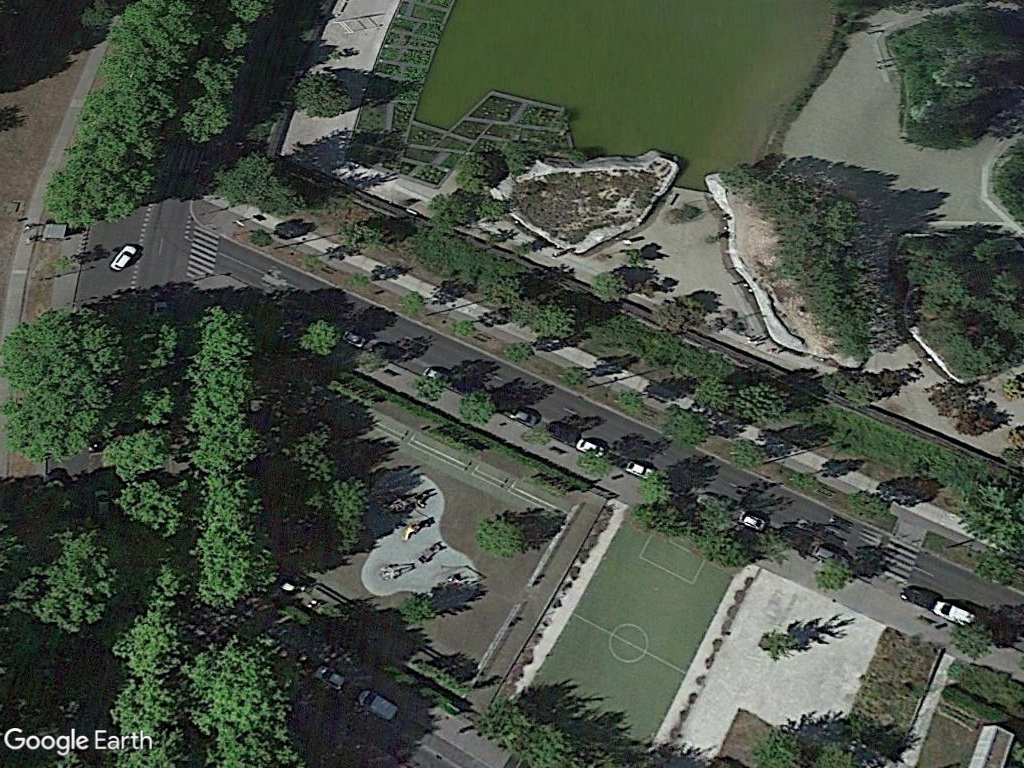car: (105, 238, 138, 275)
